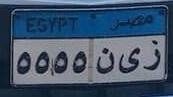5: (33, 47, 52, 77), (14, 49, 32, 78), (52, 50, 71, 77), (72, 49, 88, 75)
noon: (95, 47, 115, 77)
yaa: (117, 45, 141, 75)
zay: (141, 38, 163, 73)
